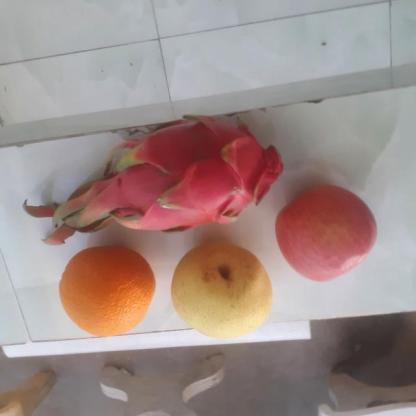apple: (275, 188, 380, 281)
orange: (59, 243, 158, 339)
pear: (169, 242, 279, 337)
pitaya: (110, 119, 300, 231)
